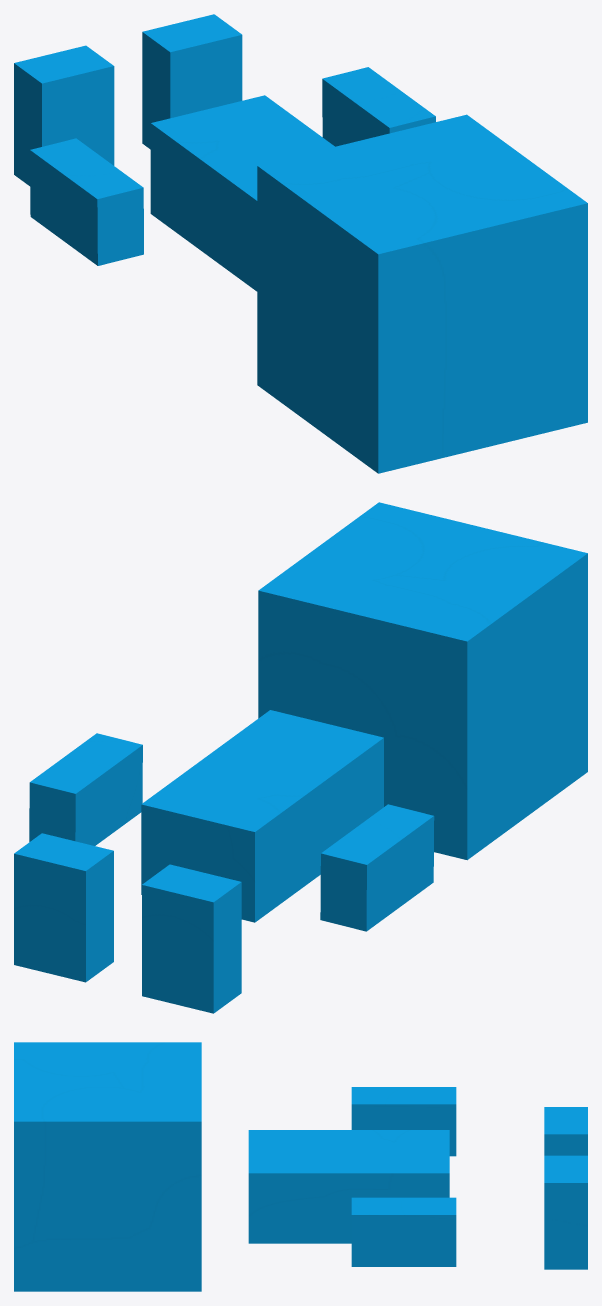
The model's file is robot  3.0 blue.fbx.
3 views of the same model, one above another, from view 1: azimuth 30°, elevation 25°; view 2: azimuth 150°, elevation 25°; view 3: azimuth 270°, elevation 25° (orthographic). The views are drawn at different scales.
Visible parts, largest first — view 1: node_id4, node_id5, node_id7, node_id9, node_id8, node_id6; view 2: node_id4, node_id5, node_id8, node_id9, node_id7, node_id6; view 3: node_id4, node_id5, node_id6, node_id8, node_id7, node_id9.
Part boxes in pixels (x1,y1,x2,y2): node_id4: (257, 114, 587, 473); node_id5: (150, 95, 334, 291); node_id7: (30, 138, 143, 265); node_id9: (14, 45, 114, 186); node_id8: (142, 14, 242, 149); node_id6: (322, 67, 435, 146); node_id4: (258, 502, 587, 860); node_id5: (141, 710, 383, 922); node_id8: (14, 833, 113, 982); node_id9: (142, 864, 241, 1013); node_id7: (320, 804, 434, 931); node_id6: (29, 733, 142, 845); node_id4: (14, 1042, 201, 1291); node_id5: (248, 1130, 449, 1243); node_id6: (351, 1197, 456, 1266); node_id8: (544, 1155, 587, 1269); node_id7: (351, 1087, 456, 1156); node_id9: (544, 1107, 587, 1155).
Size of the model in its own units: 0.2626 by 0.1624 by 0.4964.
6 materials, 6 textured.
